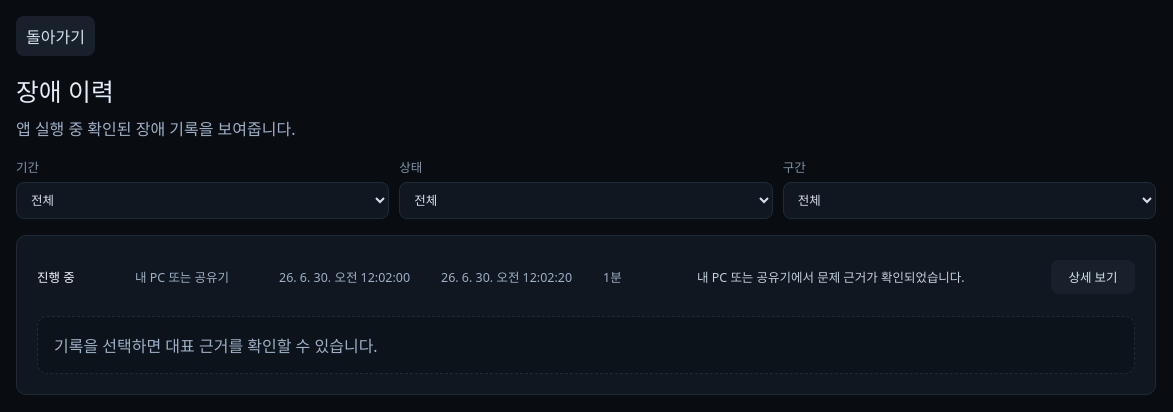
Test case: NetworkIncidentHistoryPage › shows a filtered empty state when filters hide all incidents
Select "복구됨" in the dropdown labelled "상태" at (586, 200), box [399,182,773,219]
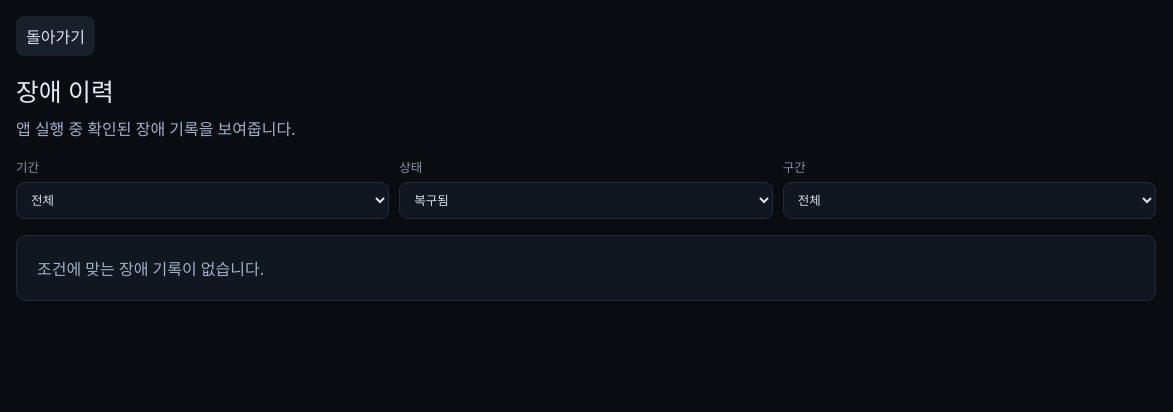
Result: the text "조건에 맞는 장애 기록이 없습니다." is shown at [37,258,264,280]
